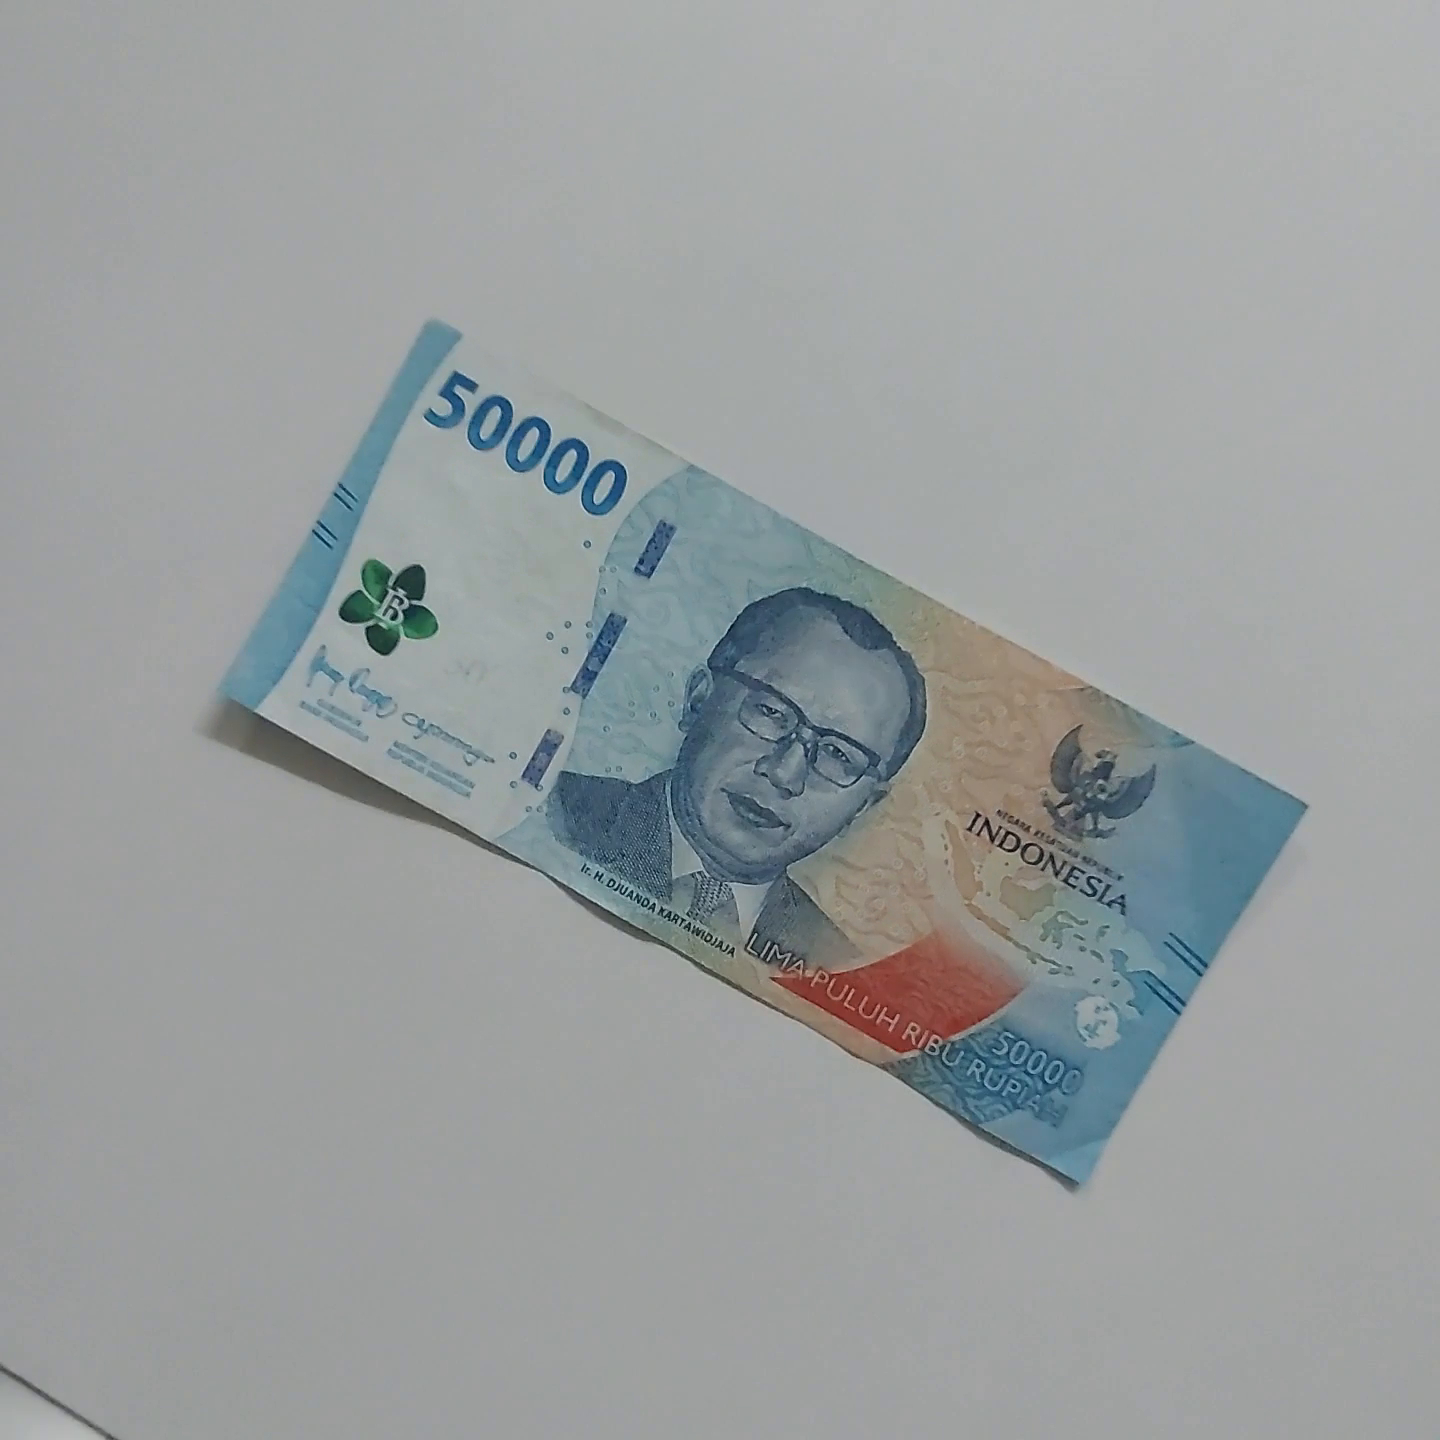50k: (456, 268, 1440, 798)
